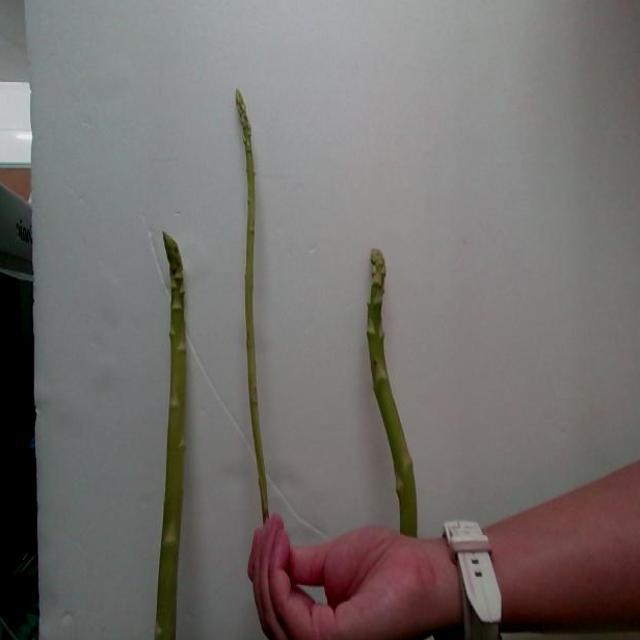aspargus: (365, 250, 418, 538), (233, 92, 268, 525), (150, 234, 187, 640)
